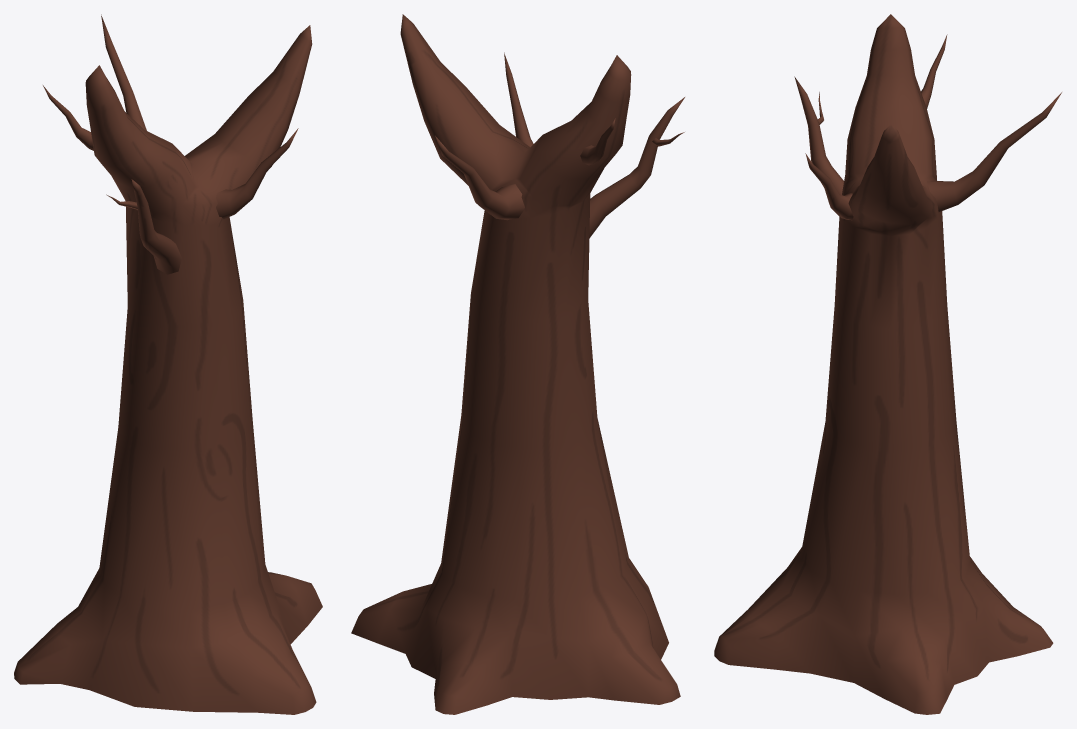
File: ArvoreCotoco_Boitata.fbx
3 views of the same model, side by side, from view 1: azimuth 30°, elevation 25°; view 2: azimuth 150°, elevation 25°; view 3: azimuth 270°, elevation 25° (orthographic). The views are drawn at different scales.
Visible parts, largest first — view 1: Arvore_Pequena; view 2: Arvore_Pequena; view 3: Arvore_Pequena.
Part boxes in pixels (x1=…): Arvore_Pequena: x1=14, y1=14, x2=322, y2=714; Arvore_Pequena: x1=351, y1=14, x2=684, y2=714; Arvore_Pequena: x1=714, y1=14, x2=1061, y2=714.
Size of the model in its own units: 109 by 205 by 110.
